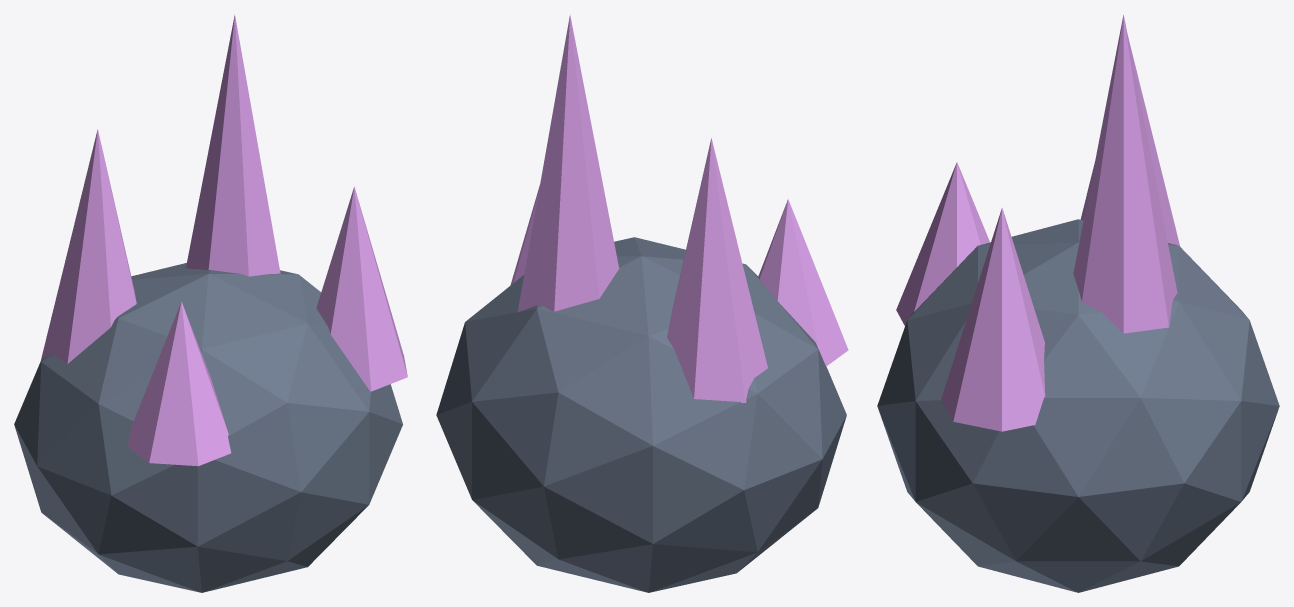
File: ore_Terbium.glb
The picture shows the model from 3 angles, left to right: view 1: azimuth 30°, elevation 25°; view 2: azimuth 150°, elevation 25°; view 3: azimuth 270°, elevation 25°; orthographic projection. The views are drawn at different scales.
Visible parts, largest first — view 1: rock, crystal_1, crystal_0, crystal_3, crystal_2; view 2: rock, crystal_1, crystal_0, crystal_3, crystal_2; view 3: rock, crystal_1, crystal_2, crystal_3, crystal_0.
Part boxes in pixels (box(x1,y1,x2,y2)): rock: box(14, 263, 402, 592); crystal_1: box(186, 14, 280, 276); crystal_0: box(40, 129, 136, 363); crystal_3: box(128, 301, 231, 466); crystal_2: box(316, 186, 407, 391); rock: box(436, 237, 846, 592); crystal_1: box(517, 14, 619, 311); crystal_0: box(667, 138, 767, 403); crystal_3: box(758, 199, 848, 366); crystal_2: box(510, 185, 539, 285); rock: box(877, 219, 1279, 592); crystal_1: box(1073, 15, 1177, 333); crystal_2: box(941, 207, 1045, 431); crystal_3: box(896, 162, 989, 325); crystal_0: box(1080, 35, 1179, 245).
Size of the model in its own units: 1.24 by 1.85 by 1.16.
